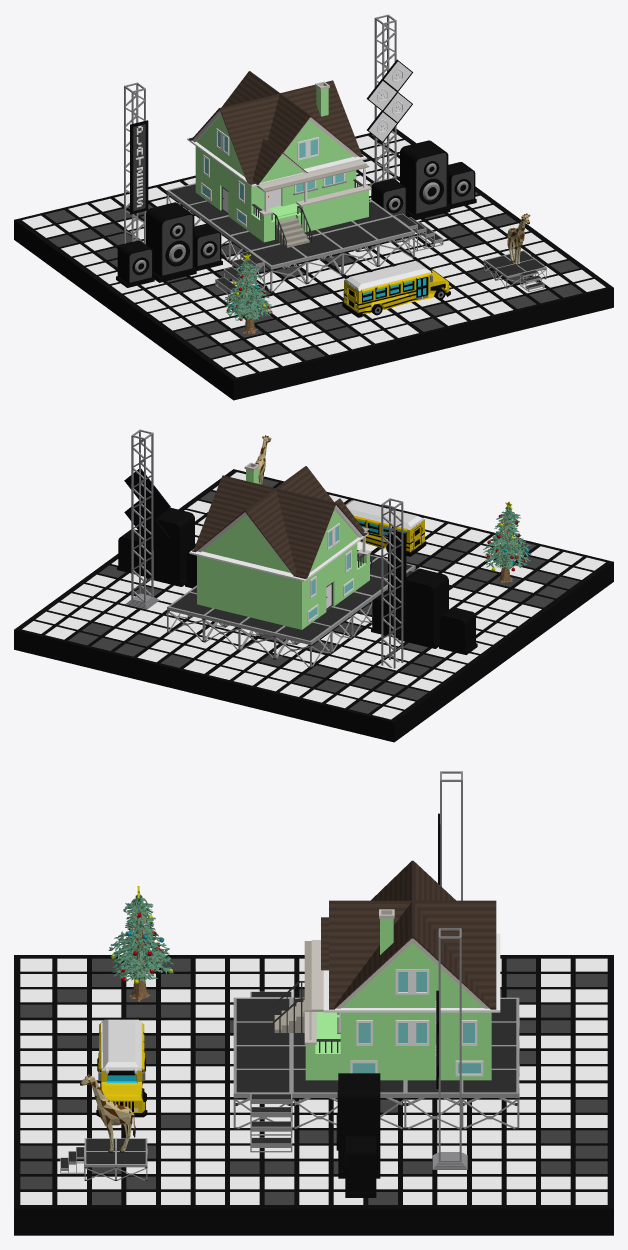
3 renders of one model, top to bottom at view 1: azimuth 30°, elevation 25°; view 2: azimuth 150°, elevation 25°; view 3: azimuth 270°, elevation 25°, orthographic. The views are drawn at different scales.
Parts seen in each view (by area): view 1: Cube.008, Cube.274, VEHICLES_SCHOOL_BUS, OBJRANDOM_CHRISTMAS_TREE, ANIMAL_JIRAFA; view 2: Cube.008, Cube.274, VEHICLES_SCHOOL_BUS, OBJRANDOM_CHRISTMAS_TREE; view 3: Cube.008, Cube.274, VEHICLES_SCHOOL_BUS, OBJRANDOM_CHRISTMAS_TREE, ANIMAL_JIRAFA.
Boxes of the visible parts, box(x1,y1,x2,y2) form: Cube.008: box(14, 14, 613, 400); Cube.274: box(187, 71, 371, 248); VEHICLES_SCHOOL_BUS: box(342, 261, 450, 317); OBJRANDOM_CHRISTMAS_TREE: box(222, 253, 273, 334); ANIMAL_JIRAFA: box(507, 213, 530, 265); Cube.008: box(14, 429, 613, 742); Cube.274: box(189, 462, 372, 629); VEHICLES_SCHOOL_BUS: box(345, 500, 426, 556); OBJRANDOM_CHRISTMAS_TREE: box(483, 501, 531, 583); Cube.008: box(14, 771, 613, 1235); Cube.274: box(272, 860, 500, 1080); VEHICLES_SCHOOL_BUS: box(96, 1019, 147, 1117); OBJRANDOM_CHRISTMAS_TREE: box(108, 886, 173, 1001); ANIMAL_JIRAFA: box(80, 1073, 135, 1152).
Size of the model in its own units: 4000 by 2124 by 4000.
Materials: 46 (1 with a texture image).
